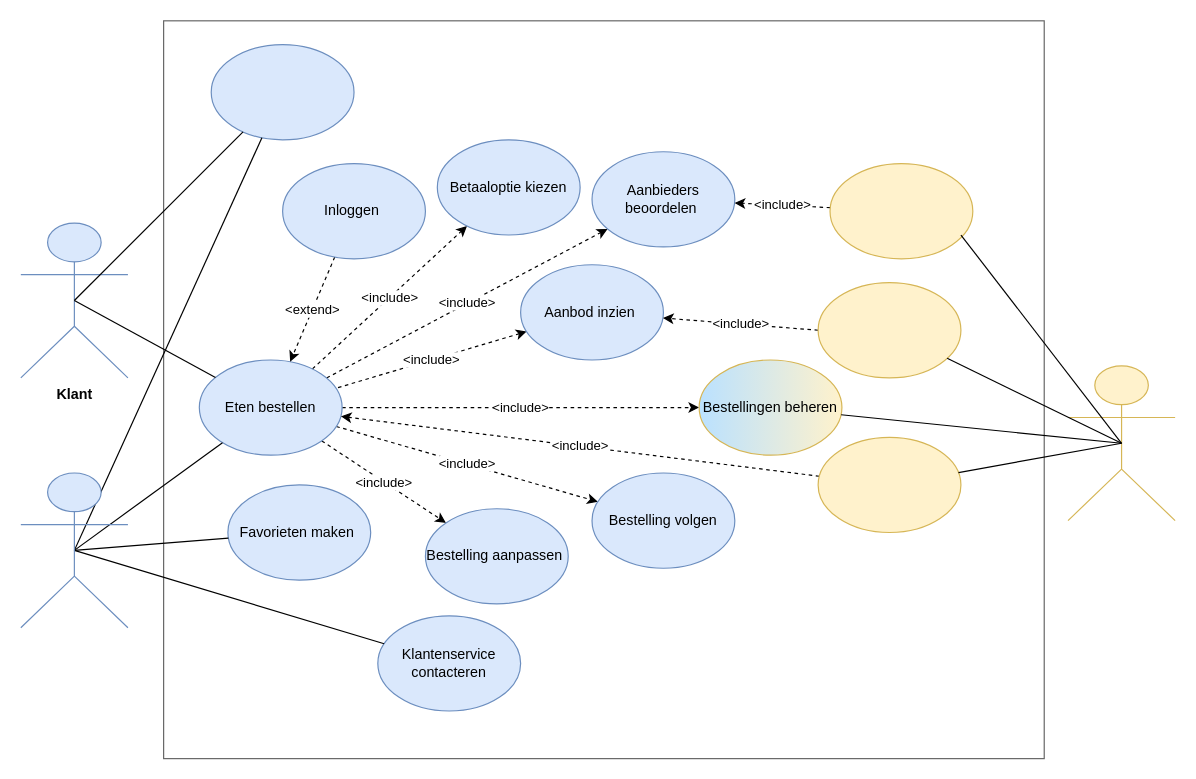
This 1196x779 diagram has some shape labels left out. The centre of each missing label's shape, as x and y in pixels:
"Aanbieder" goes at (1121,443).
"Aanbieding plaatsen" goes at (889,329).
"Aanbiedingen inzien" goes at (282,91).
"Geregistreerde klant" goes at (74,550).
"Klantbeoordelingen inzien" goes at (901,210).
"Producten plaatsen" goes at (889,484).
